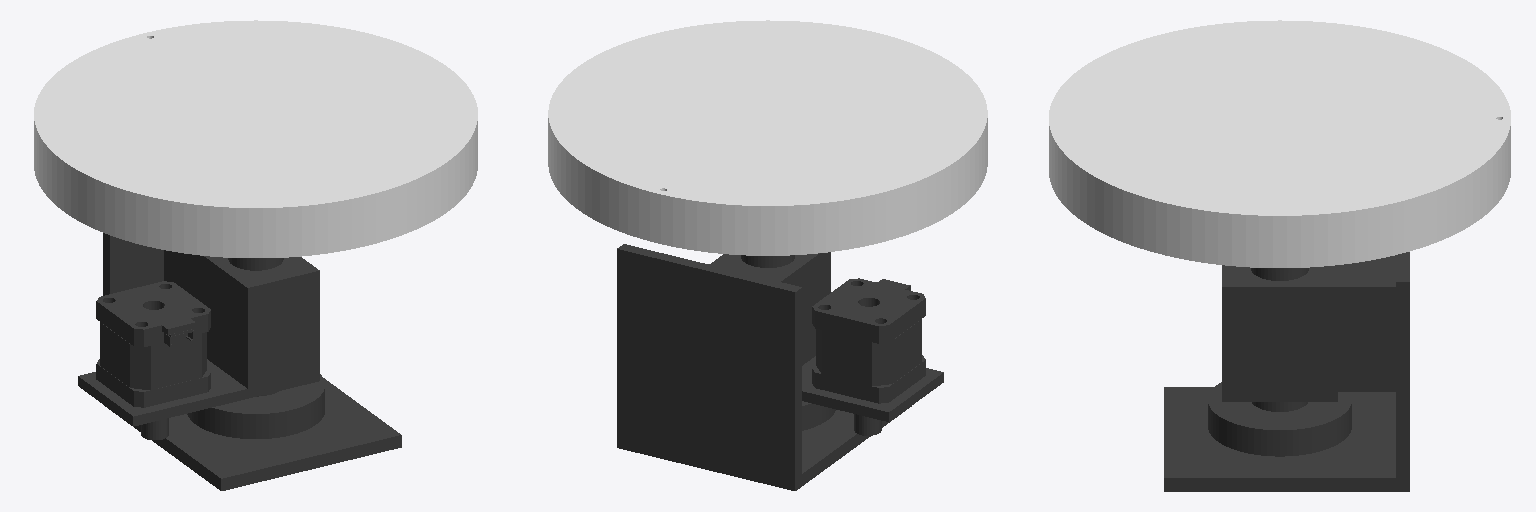
URDF robot description (actuated_platform):
<?xml version="1.0" ?>
<robot name="actuated_platform">
  
  <material name="white">
	<color rgba="0.95 0.95 0.95 1"/>
  </material>
  
  <material name="silver">
	<color rgba="0.3 0.3 0.3 1"/>
  </material>

  <link name="world" />

  <joint name="world_joint" type="fixed">
    <origin rpy="0 0 -3.14159265359" xyz="0 0 0"/>
    <parent link="world"/>
    <child link="actuated_platform/base"/>
  </joint>
  
  <link name="actuated_platform/base">
	<visual>
		<origin xyz="0 0 0"/>
		<geometry>
			<mesh filename="../Data/meshes/PlatformBase.stl" scale="0.001 0.001 0.001"/>
		</geometry>
		<material name="silver"/>
	</visual>
	
	<collision>
		<origin xyz="0 0 0"/>
		<geometry>
			<mesh filename="../Data/meshes/PlatformBase.stl" scale="0.001 0.001 0.001"/>
		</geometry>
	</collision>
	
	<inertial>
      <origin rpy="0 0 0" xyz="0 0 0"/>
      <mass value="20"/>
      <inertia ixx="0.0033530000" ixy="-0.0001246000" ixz="0.0000110600" iyy="0.0013570000" iyz="0.0002103000" izz="0.0041110000"/>
    </inertial>
  </link>
  
  <joint name="base_mount_joint" type="revolute">
    <parent link="actuated_platform/base"/>
    <child link="actuated_platform/plate"/>
    <axis xyz="0 0 1"/>
    <limit effort="1" lower="-9999999999" upper="9999999999" velocity="5"/>
    <origin xyz="0 0 0"/>
  </joint>
  
  <link name="actuated_platform/plate">
	<visual>
		<origin xyz="0 0 0"/>
		<geometry>
			<mesh filename="../Data/meshes/PlatformPlate.stl" scale="0.001 0.001 0.001"/>
		</geometry>
		<material name="white"/>
	</visual>
	
	<collision>
		<origin xyz="0 0 0"/>
		<geometry>
			<mesh filename="../Data/meshes/PlatformPlate.stl" scale="0.001 0.001 0.001"/>
		</geometry>
	</collision>
	
	<inertial>
      <origin rpy="0 0 0" xyz="0 0 0"/>
      <mass value="1"/>
      <inertia ixx="0.0033530000" ixy="-0.0001246000" ixz="0.0000110600" iyy="0.0013570000" iyz="0.0002103000" izz="0.0041110000"/>
    </inertial>
  </link>

  <link name="actuated_platform/object">
  	<visual>
		<origin xyz="0 0 0"/>
		<geometry>
			<mesh filename="../Data/models/Cylinder.obj" scale="1 1 1"/>
		</geometry>
		<material name="white"/>
	</visual>

	<collision>
		<origin xyz="0 0 0"/>
		<geometry>
			<mesh filename="../Data/models/Cylinder.obj" scale="1 1 1"/>
		</geometry>
	</collision>

	<inertial>
      <origin rpy="0 0 0" xyz="0 0 0"/>
      <mass value="1"/>
      <inertia ixx="0.0033530000" ixy="-0.0001246000" ixz="0.0000110600" iyy="0.0013570000" iyz="0.0002103000" izz="0.0041110000"/>
    </inertial>
  </link>

  <joint name="obj_fixed" type="fixed">
    <parent link="actuated_platform/plate"/>
    <child link="actuated_platform/object"/>
    <origin xyz="0 0 0.16"/>
  </joint>


</robot>

--- Facts derived from the render (not from the file) ---
3 views of the same robot in one strip: view 1: azimuth 30°, elevation 25°; view 2: azimuth 150°, elevation 25°; view 3: azimuth 270°, elevation 25° (orthographic).
Robot: actuated_platform — 4 links, 3 joints (1 revolute, 2 fixed); root link world; default pose: every joint at zero.
Visible links, largest first — view 1: actuated_platform/plate, actuated_platform/base; view 2: actuated_platform/plate, actuated_platform/base; view 3: actuated_platform/plate, actuated_platform/base.
Link boxes in pixels (left/top/right/bottom): actuated_platform/plate: left=34, top=20, right=477, bottom=257; actuated_platform/base: left=78, top=233, right=401, bottom=490; actuated_platform/plate: left=548, top=20, right=987, bottom=255; actuated_platform/base: left=617, top=244, right=943, bottom=490; actuated_platform/plate: left=1049, top=20, right=1510, bottom=267; actuated_platform/base: left=1164, top=252, right=1409, bottom=491.
Bounding box of the posed robot: 0.2032 × 0.2032 × 0.1587 m (x, y, z).
Meshes: 3 distinct files referenced, 2 mesh visuals loaded (2 binary STL); not drawn: 1 (reference not matched to a file when rendering).